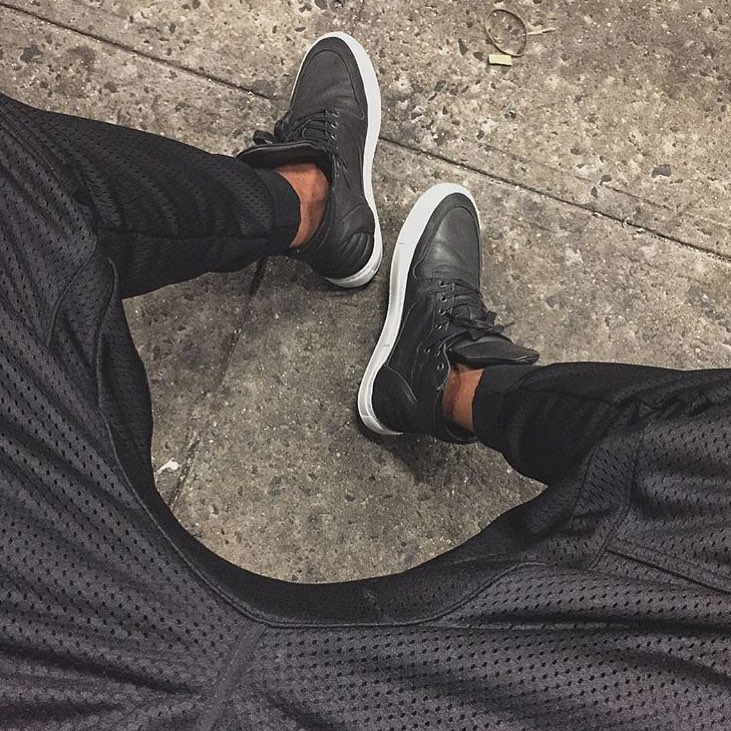sneaker: (334, 171, 548, 455), (226, 13, 413, 305)
